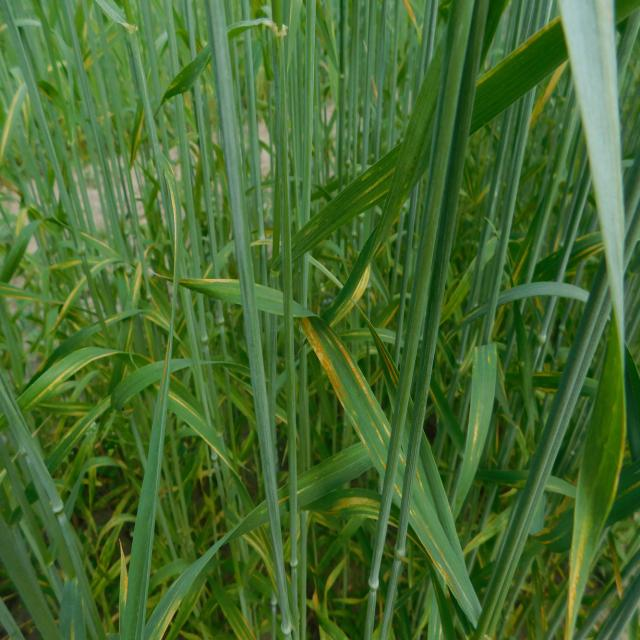wheat-yellowrust: (301, 315, 415, 474), (322, 493, 386, 519)
